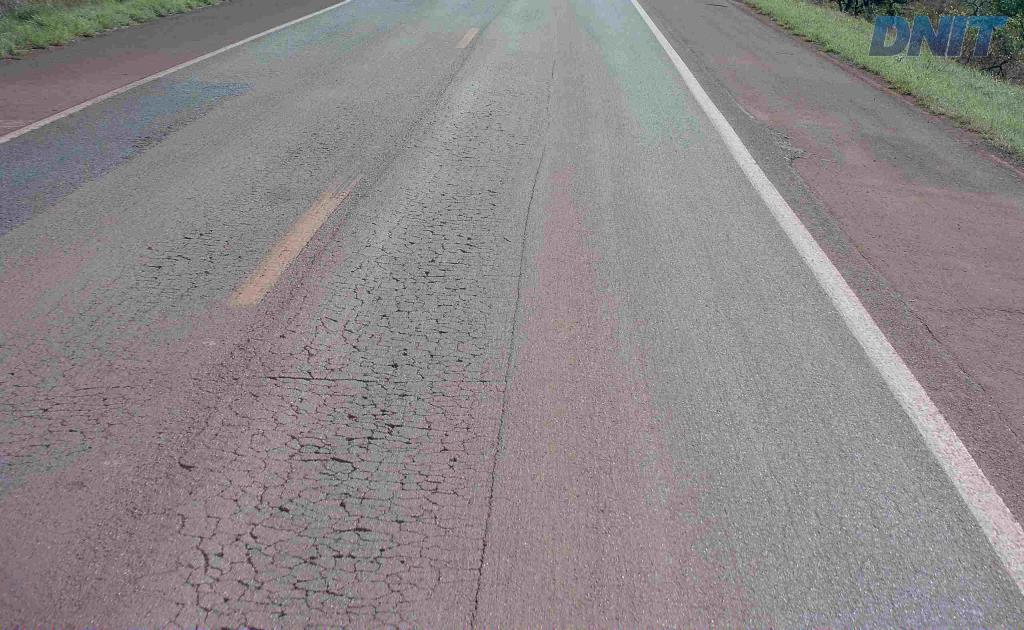crack: (285, 434, 359, 486), (332, 408, 403, 454)
